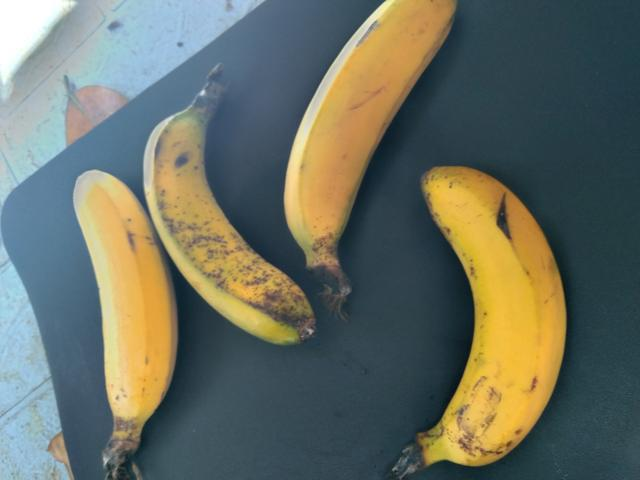freshripe: (279, 0, 471, 266), (56, 164, 186, 479)
ripe: (386, 143, 601, 479), (146, 83, 310, 352)
